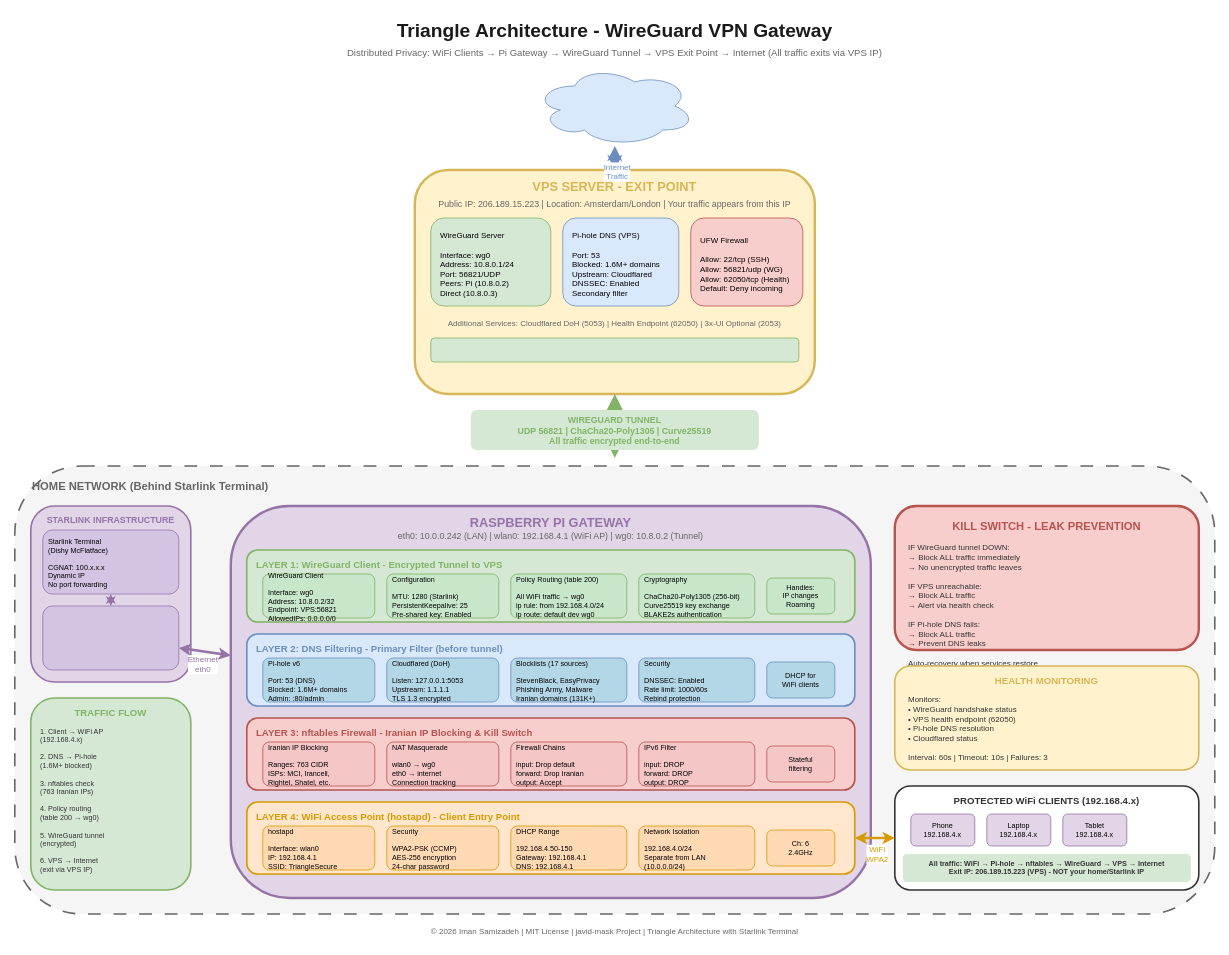
The diagram is 1229 pixels wide and 955 high, and some of its shapes have lost their labels. The shapes that lost their labels are listed below. From the top down, each one's centre as x and y in pixels, then its label:
At pixel 614 105: "PUBLIC INTERNET".
At pixel 614 349: "EXIT POINT: All WiFi client traffic exits here → ISP sees VPS IP only".
At pixel 110 637: "Starlink Router LAN: 10.0.0.1 DHCP: 10.0.0.2-254".
